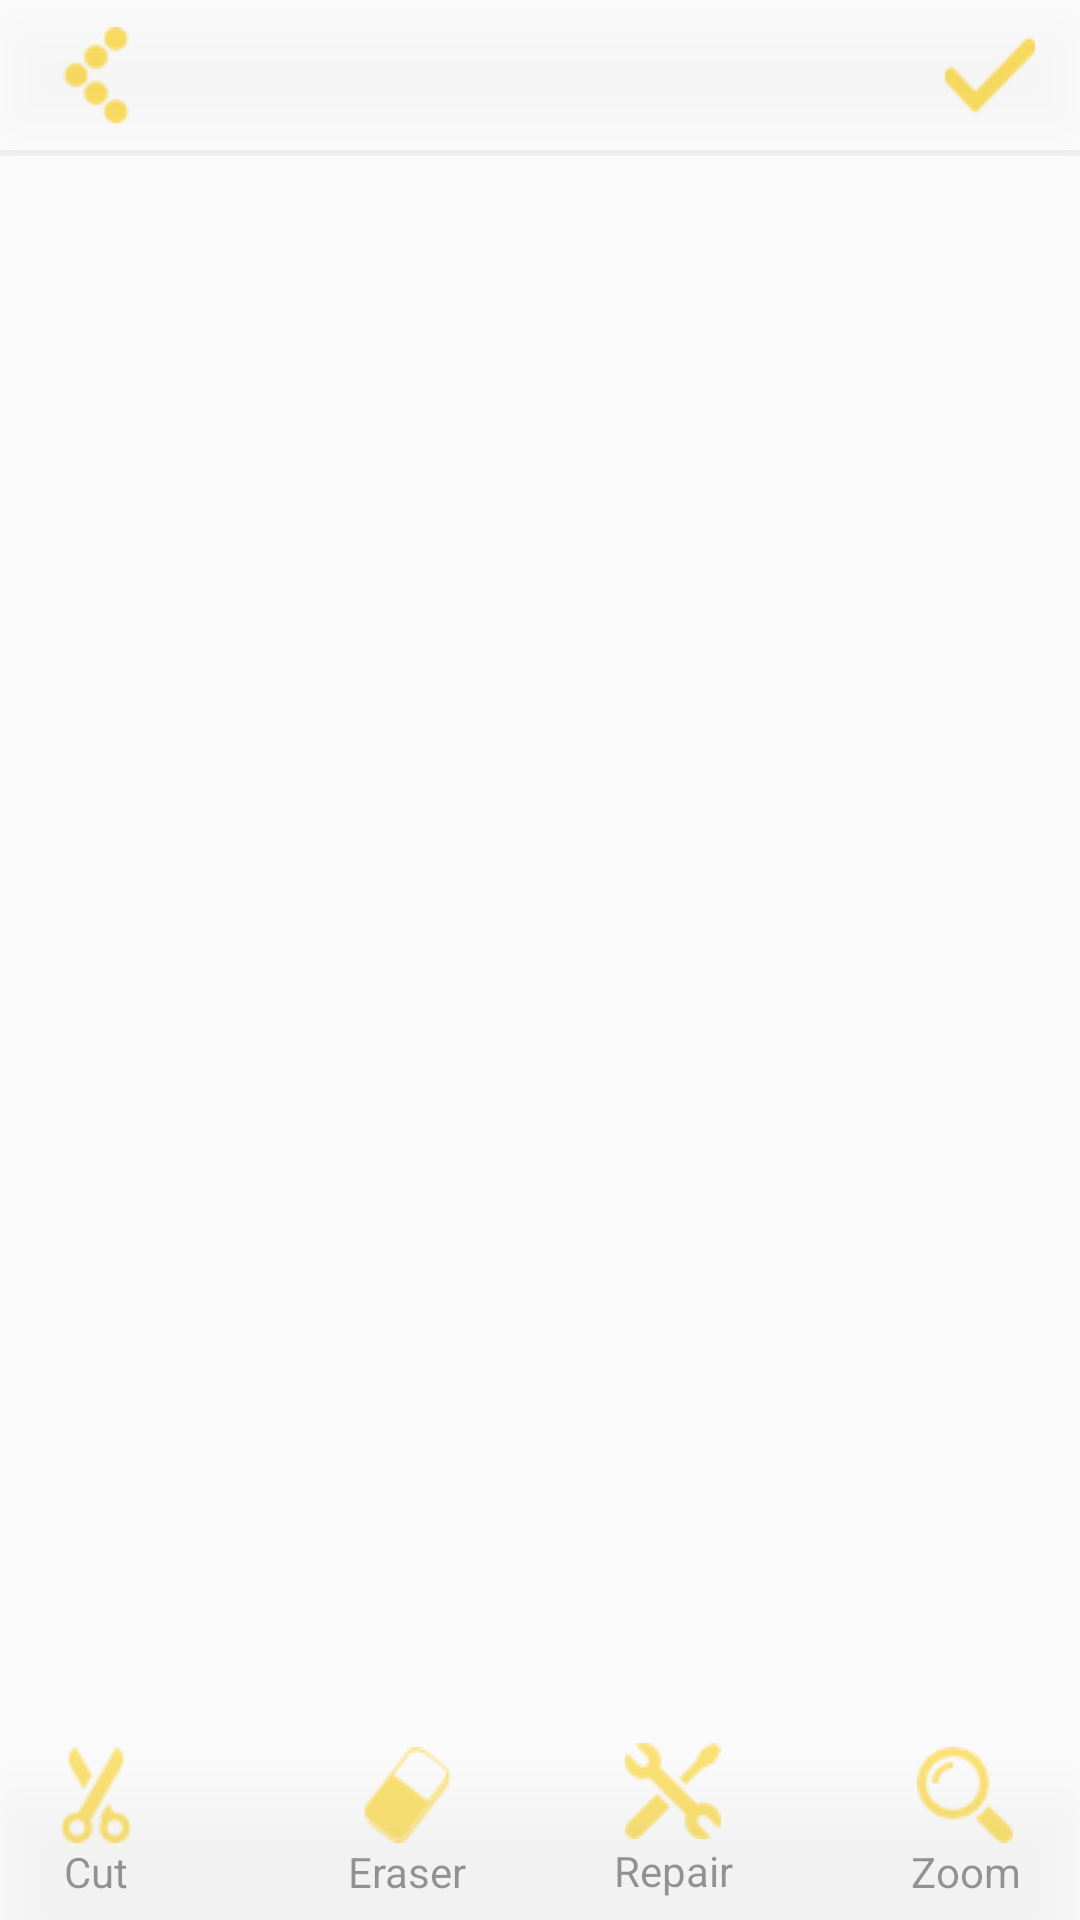

Where to tap for icons on this 1080×1920 app screen, as (x,y):
done: (990,75)
leftbtn: (96,75)
